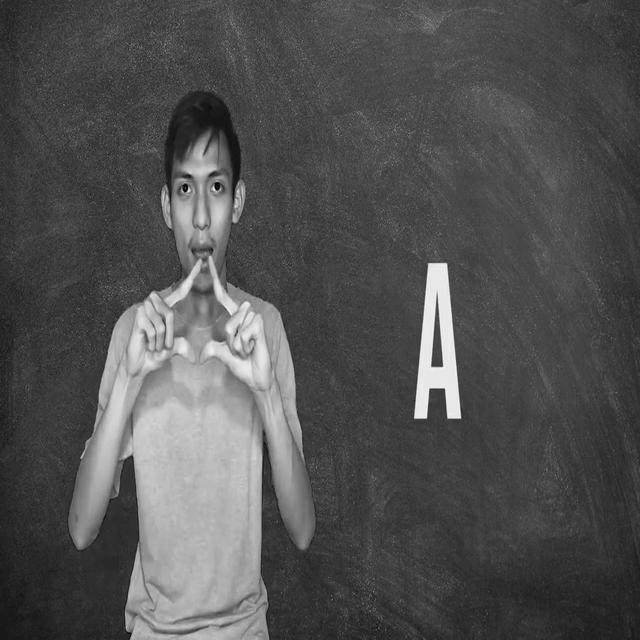A: (106, 242, 282, 403)
